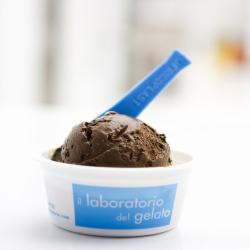icecream: (59, 112, 171, 181)
